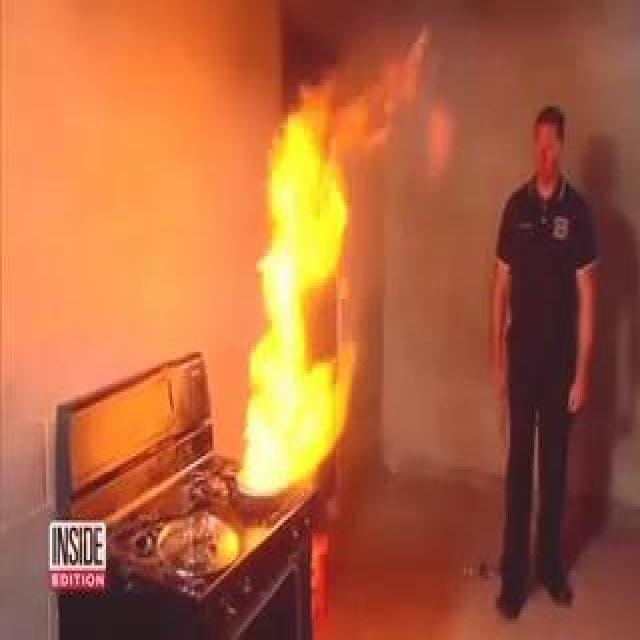Fire: (231, 132, 409, 497)
